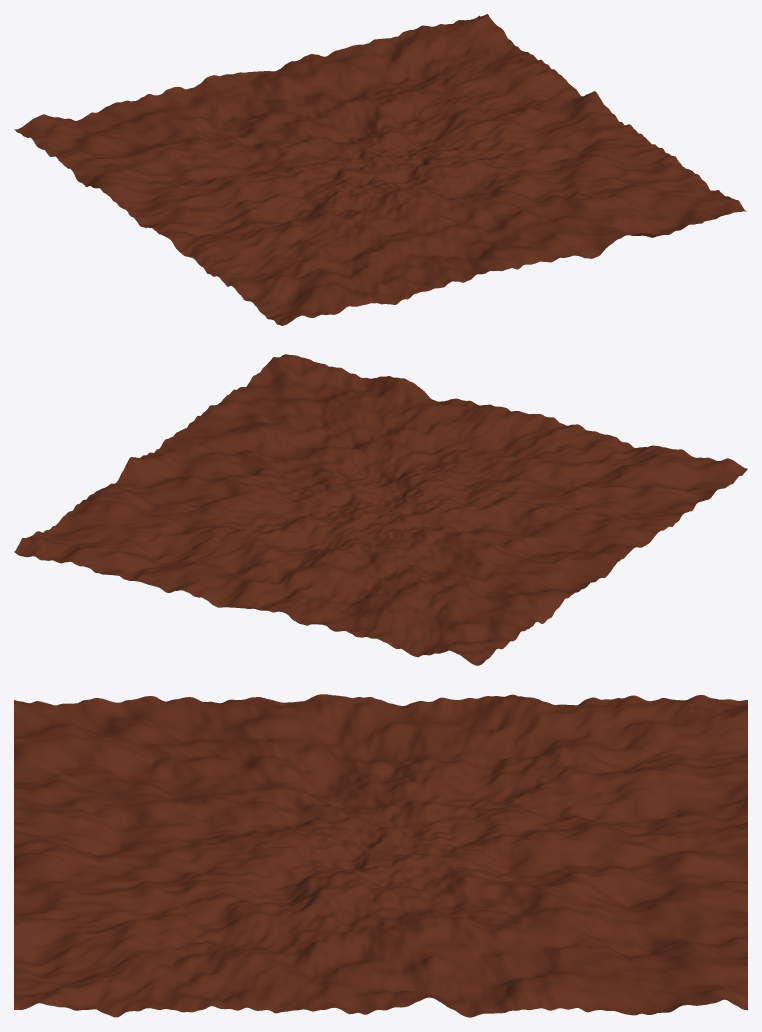
The model's file is terrain_2.fbx.
The picture shows the model from 3 angles, top to bottom: view 1: azimuth 30°, elevation 25°; view 2: azimuth 150°, elevation 25°; view 3: azimuth 270°, elevation 25°; orthographic projection. The views are drawn at different scales.
Visible parts, largest first — view 1: Plane; view 2: Plane; view 3: Plane.
Boxes of the visible parts, left/top/right/bottom form: Plane: left=14, top=14, right=746, bottom=325; Plane: left=14, top=354, right=747, bottom=665; Plane: left=14, top=694, right=747, bottom=1017.
Size of the model in its own units: 79666 by 3374 by 79666.
